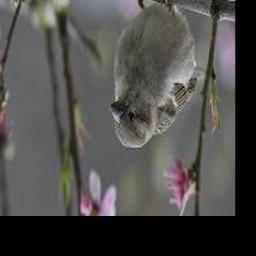Sparrow: (109, 0, 206, 149)
